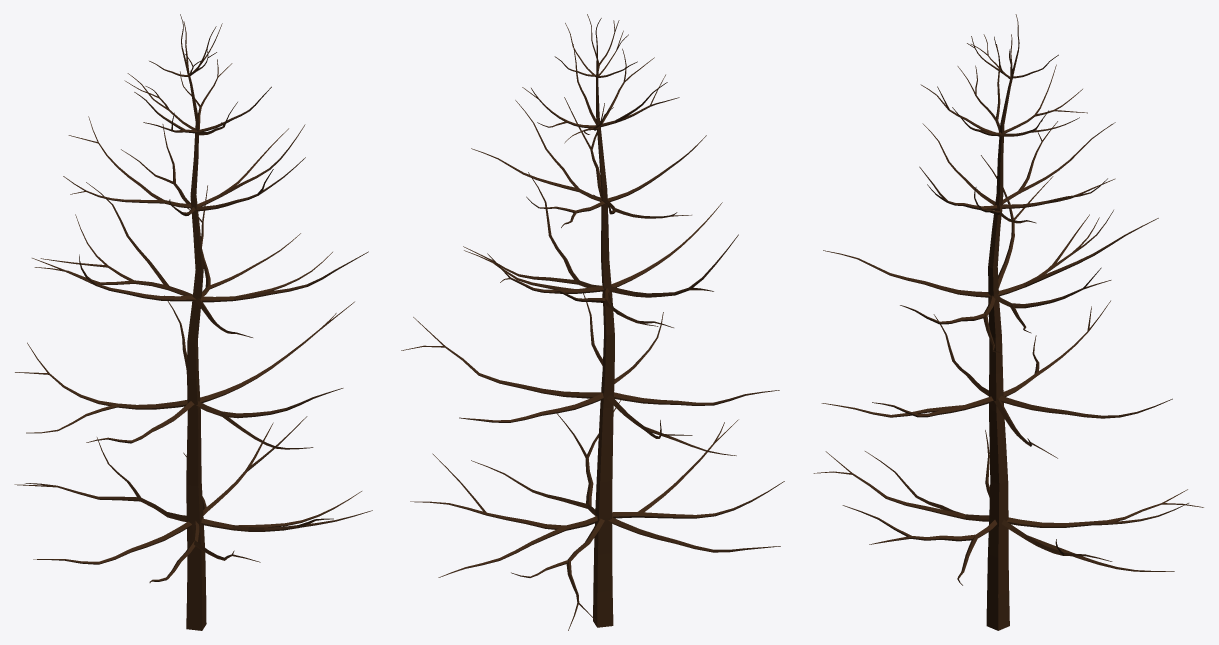
The model's file is Tree_005.fbx.
3 views of the same model, side by side, from view 1: azimuth 30°, elevation 25°; view 2: azimuth 150°, elevation 25°; view 3: azimuth 270°, elevation 25° (orthographic).
Parts seen in each view (by area): view 1: tree.001; view 2: tree.001; view 3: tree.001.
Boxes of the visible parts, x1,y1,x2,y2 form: tree.001: (14, 14, 372, 630); tree.001: (401, 14, 784, 630); tree.001: (813, 14, 1203, 630).
Size of the model in its own units: 297 by 502 by 292.
